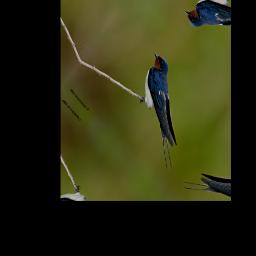Swallow: (114, 49, 213, 173)
